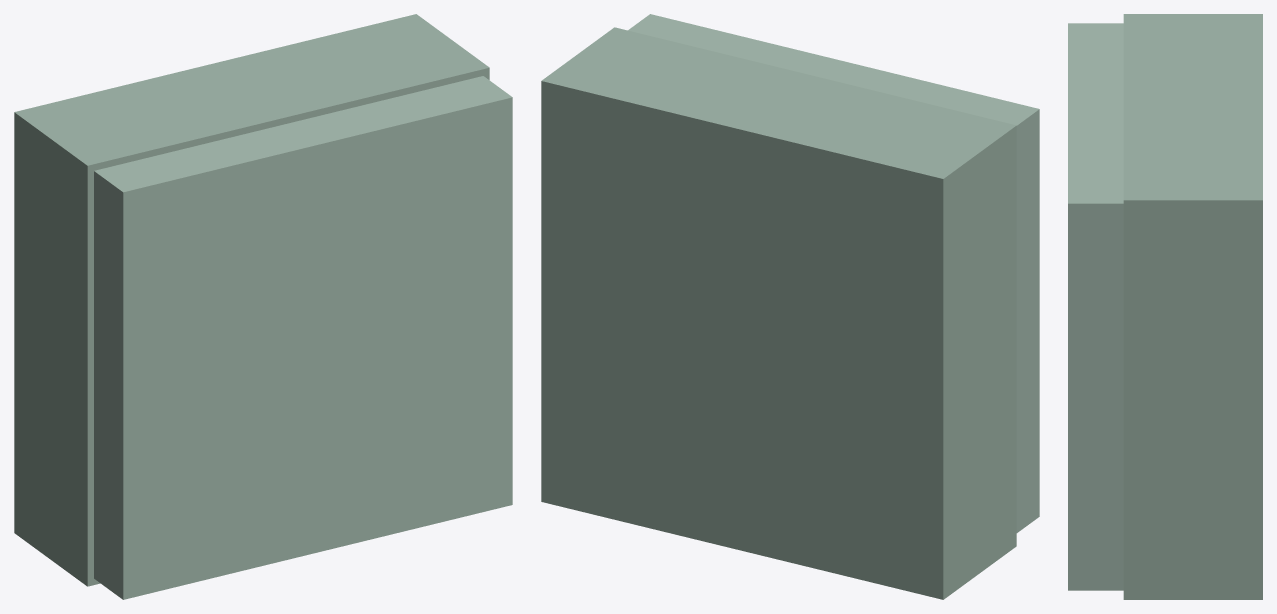
3 renders of one model, left to right at view 1: azimuth 30°, elevation 25°; view 2: azimuth 150°, elevation 25°; view 3: azimuth 270°, elevation 25°, orthographic. The views are drawn at different scales.
Visible parts, largest first — view 1: part_0, part_1; view 2: part_1, part_0; view 3: part_1, part_0.
Boxes of the visible parts, box(x1,y1,x2,y2) form: part_0: box(94, 76, 512, 599); part_1: box(14, 14, 489, 586); part_1: box(541, 27, 1016, 599); part_0: box(628, 14, 1039, 532); part_1: box(1123, 14, 1262, 599); part_0: box(1068, 23, 1123, 590).
Bounding box in the file's own units: 0.95 × 0.95 × 0.42.
